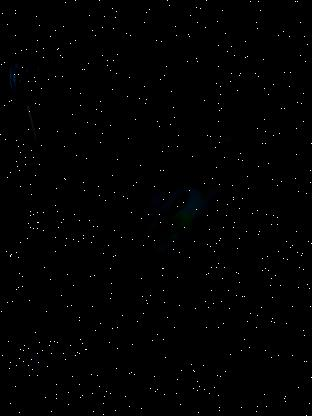Can: (91, 101, 298, 346)
